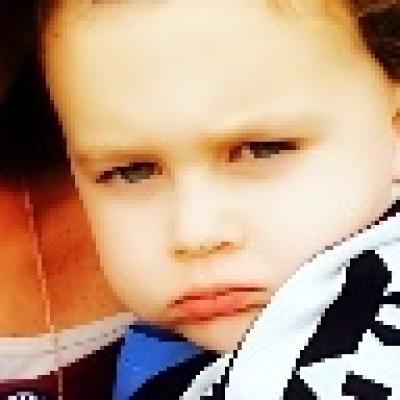angry: (51, 9, 394, 334)
